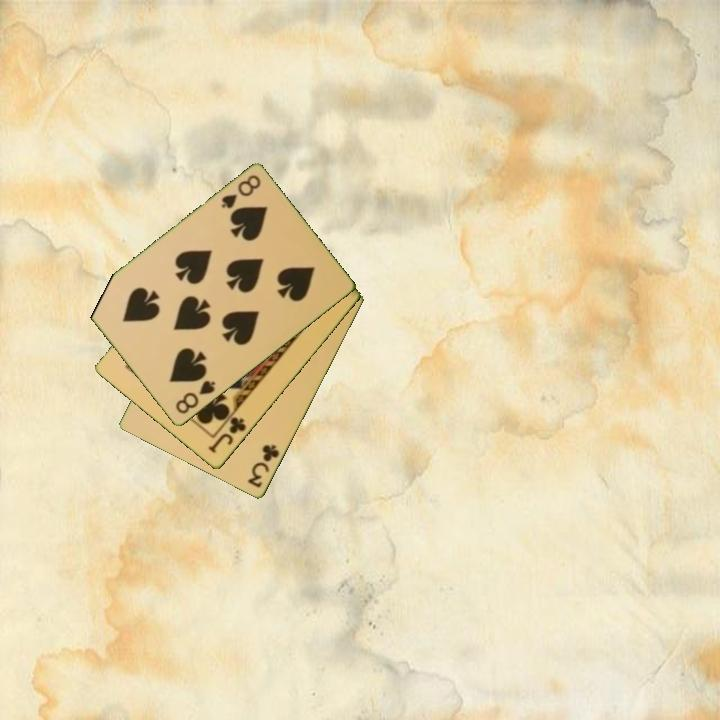3c: (244, 441, 282, 491)
8s: (217, 172, 264, 212), (172, 377, 218, 417)
Jc: (205, 414, 249, 457)
